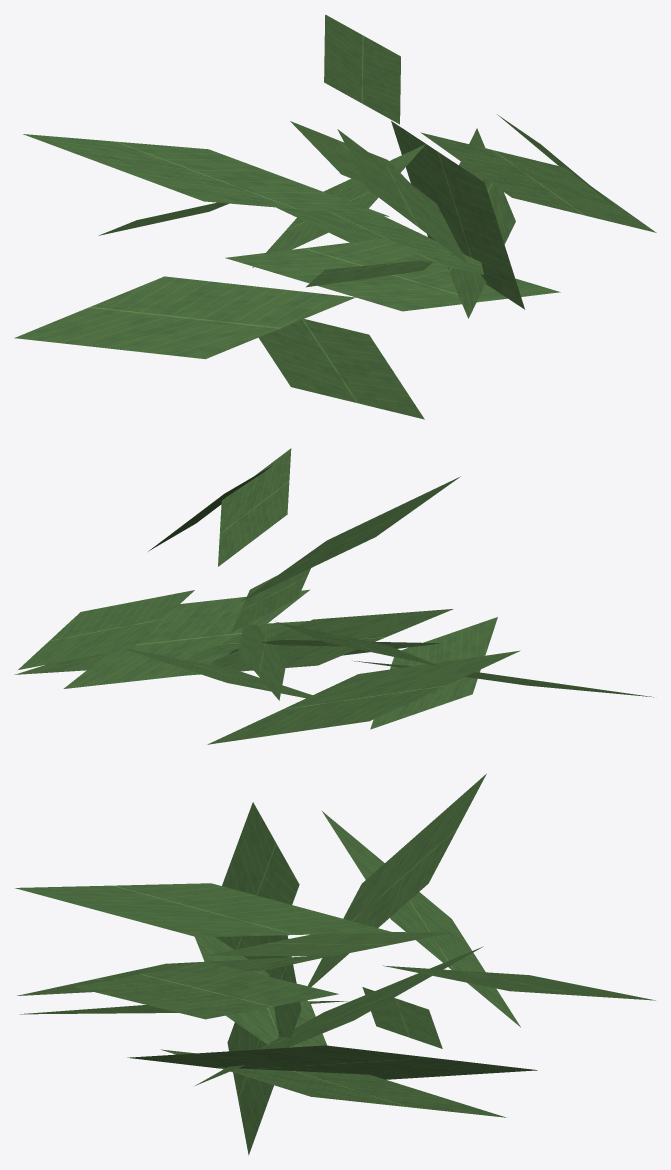
Rendered from en-010_vine_cluster_set__dense.obj.
3 renders of one model, top to bottom at view 1: azimuth 30°, elevation 25°; view 2: azimuth 150°, elevation 25°; view 3: azimuth 270°, elevation 25°, orthographic. The views are drawn at different scales.
Visible parts, largest first — view 1: en-010_vine_cluster_set__dense; view 2: en-010_vine_cluster_set__dense; view 3: en-010_vine_cluster_set__dense.
Part boxes in pixels (x1,y1,x2,y2): en-010_vine_cluster_set__dense: (14,14,656,419); en-010_vine_cluster_set__dense: (14,448,653,744); en-010_vine_cluster_set__dense: (15,773,655,1155).
Bounding box in the file's own units: 1.97 × 0.558 × 1.85.
1 material, 1 textured.
